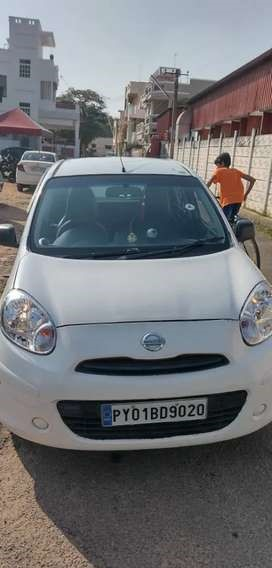PY01BD9020: (100, 396, 207, 427)
